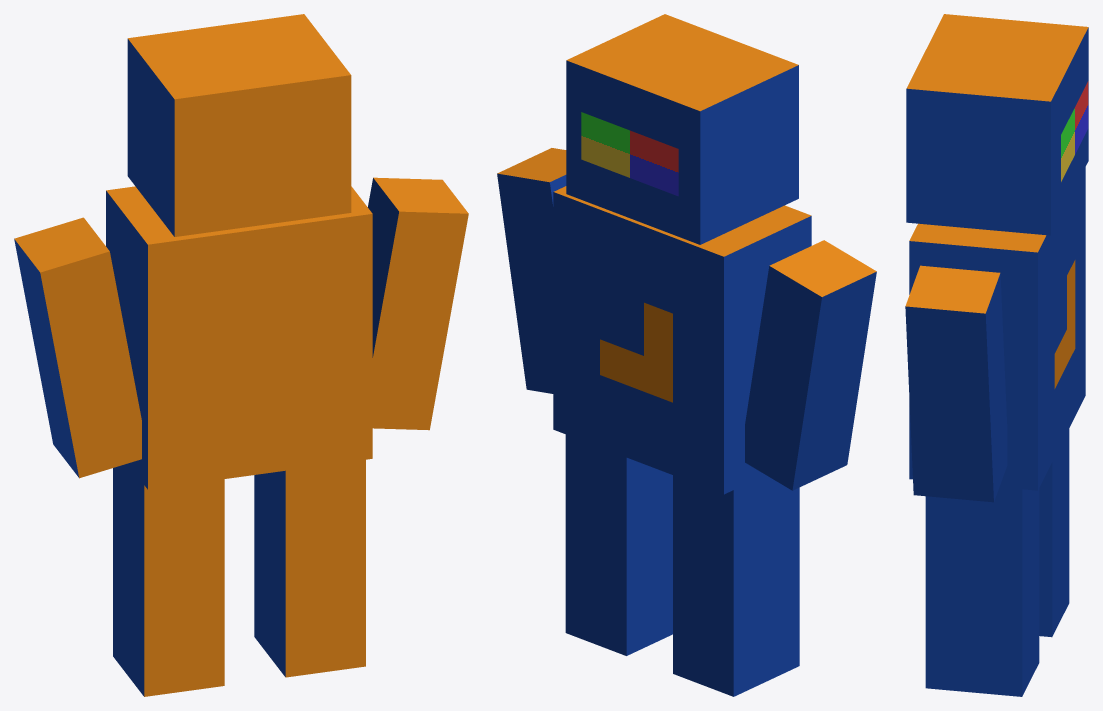
The model's file is robot-binary-7500.fbx.
3 views of the same model, side by side, from view 1: azimuth 30°, elevation 25°; view 2: azimuth 150°, elevation 25°; view 3: azimuth 270°, elevation 25° (orthographic). The views are drawn at different scales.
Visible parts, largest first — view 1: 身体, 头部, 左腿, 右腿, 左臂, 右臂; view 2: 身体, 头部, 左腿, 左臂, 右腿, 右臂, 面罩, 凹多边形徽章; view 3: 头部, 身体, 右腿, 右臂, 左腿, 面罩, 凹多边形徽章.
Boxes of the visible parts, x1,y1,x2,y2 form: 身体: (106, 186, 372, 489); 头部: (127, 14, 351, 236); 左腿: (113, 463, 224, 696); 右腿: (254, 459, 365, 677); 左臂: (14, 217, 141, 478); 右臂: (368, 177, 468, 430); 身体: (553, 186, 811, 494); 头部: (566, 14, 798, 244); 左腿: (673, 475, 799, 696); 左臂: (745, 240, 876, 490); 右腿: (565, 434, 672, 655); 右臂: (497, 148, 566, 393); 面罩: (581, 112, 678, 196); 凹多边形徽章: (600, 302, 672, 402); 头部: (906, 14, 1088, 235); 身体: (909, 167, 1085, 490); 右腿: (925, 487, 1039, 696); 右臂: (905, 265, 1007, 502); 左腿: (1039, 429, 1069, 637); 面罩: (1061, 81, 1088, 181); 凹多边形徽章: (1054, 260, 1075, 388).
Size of the model in its own units: 136 by 55.78 by 198.
3 materials, 1 textured.
